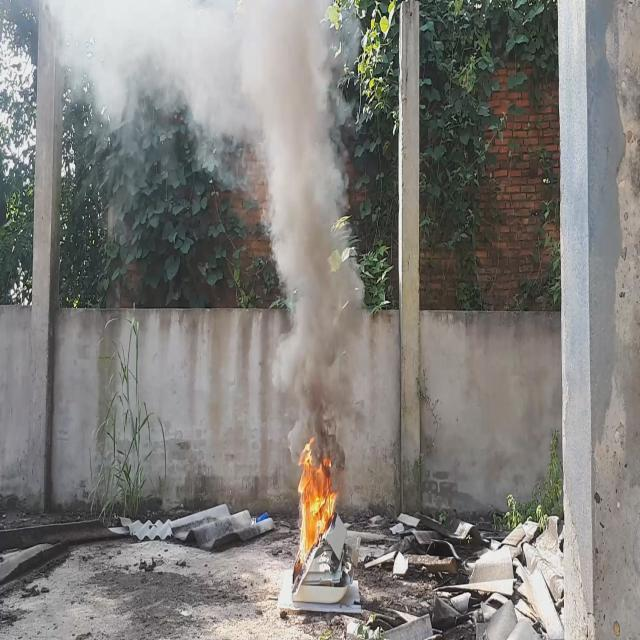Fire: (299, 436, 340, 568)
Smoke: (43, 0, 371, 478)
